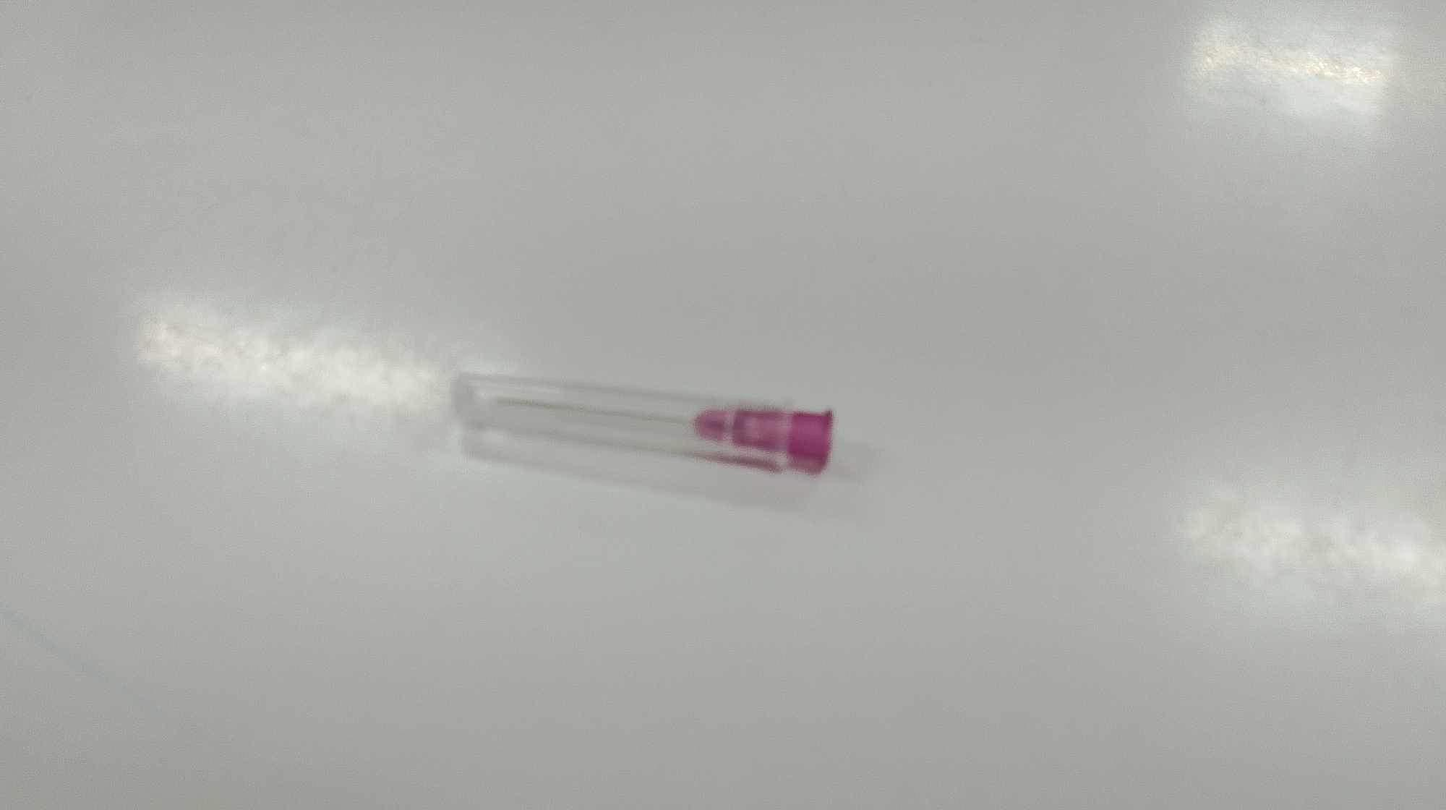General: (690, 403, 837, 476)
Sharps: (449, 367, 837, 478)
